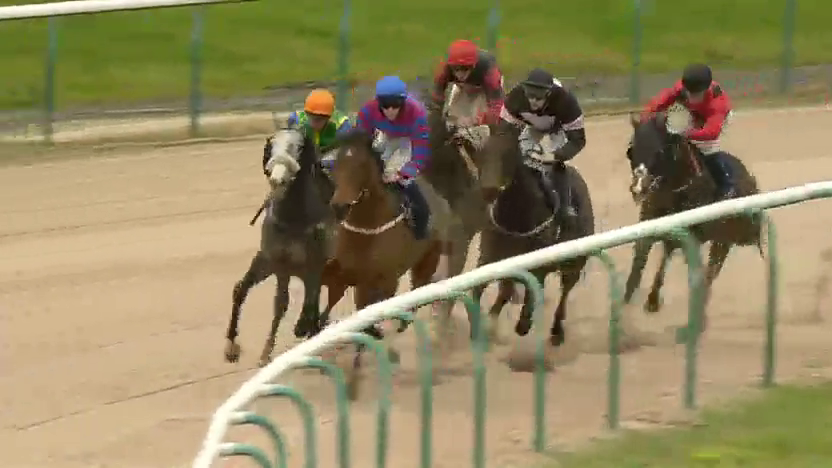jockey: (502, 73, 583, 193), (428, 41, 506, 158), (649, 67, 736, 167), (355, 79, 433, 188), (281, 84, 354, 190)
